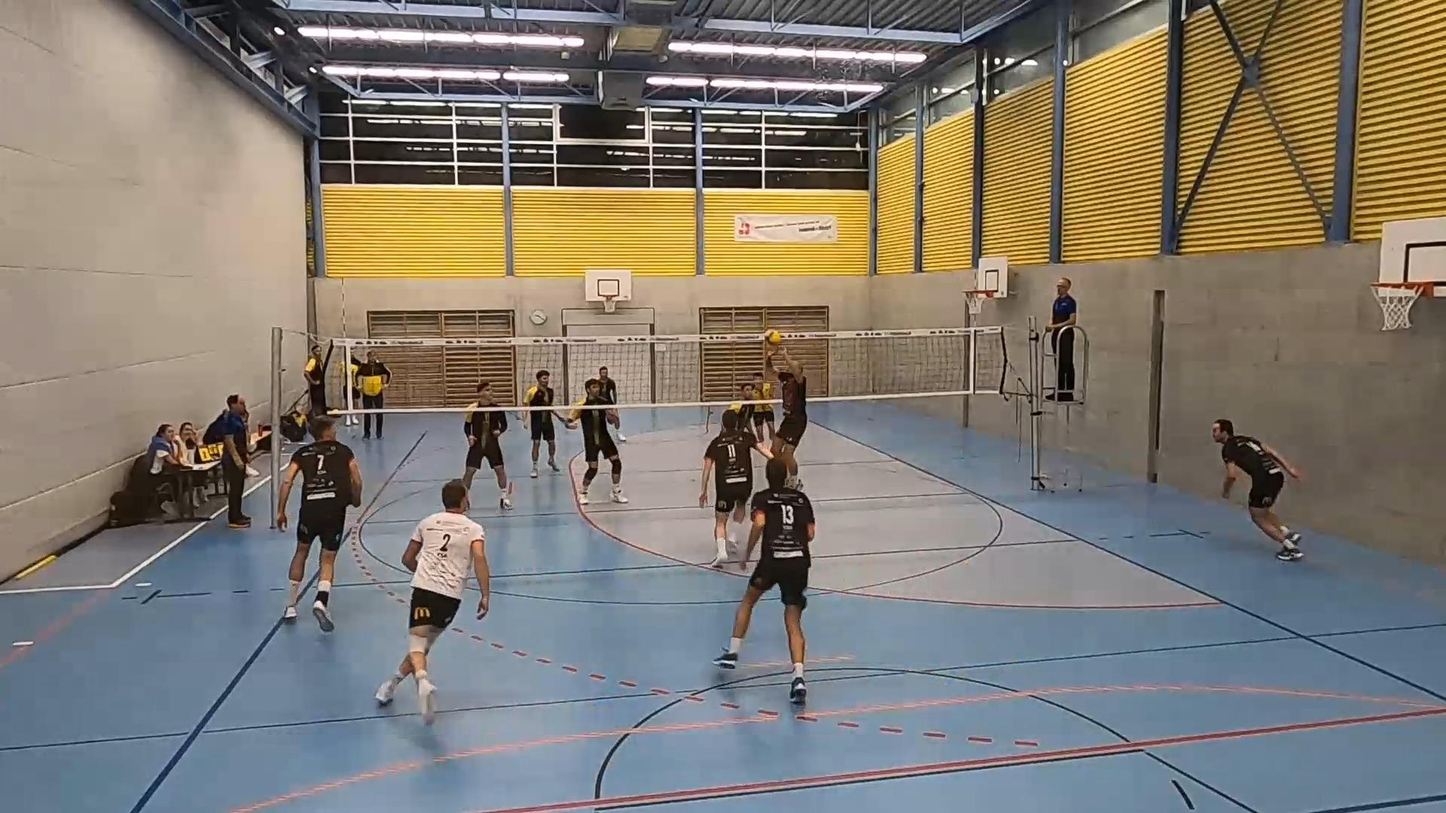Player: (375, 480, 489, 723), (714, 458, 815, 702), (276, 416, 362, 632), (1213, 419, 1302, 561), (699, 409, 770, 566), (568, 379, 627, 504), (462, 381, 512, 510), (522, 370, 560, 478), (728, 381, 757, 431), (752, 403, 775, 442), (596, 367, 618, 405)
Set: (759, 346, 814, 482)
ball: (765, 332, 789, 346)
